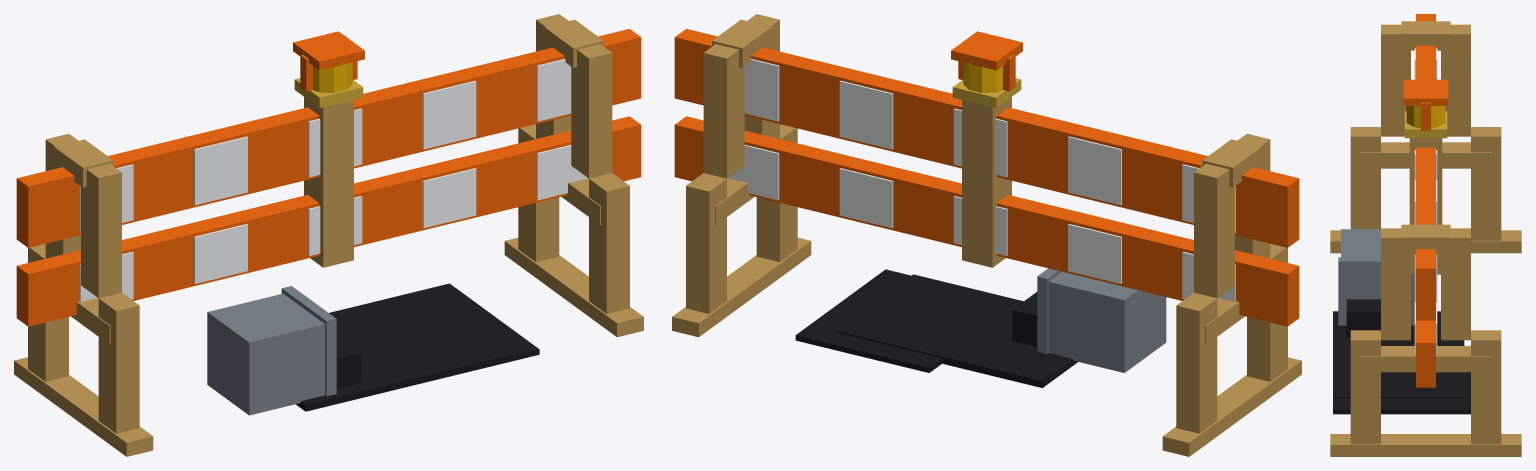
File: obs_roadwork_sawhorse_barricade.glb
3 views of the same model, side by side, from view 1: azimuth 30°, elevation 25°; view 2: azimuth 150°, elevation 25°; view 3: azimuth 270°, elevation 25° (orthographic). The views are drawn at different scales.
Parts seen in each view (by area): view 1: cross_board_top, body, stripe_top_0, tar_puddle_main, tar_bucket_drum, beacon_flash; view 2: cross_board_top, body, stripe_top_0, tar_puddle_main, tar_bucket_drum, beacon_flash; view 3: body, tar_puddle_main, cross_board_top, tar_bucket_drum, beacon_flash, stripe_top_0.
Boxes of the visible parts, bbox=[...] form: cross_board_top: bbox=[16, 29, 641, 326]; body: bbox=[14, 14, 643, 456]; stripe_top_0: bbox=[80, 59, 587, 301]; tar_puddle_main: bbox=[296, 283, 539, 411]; tar_bucket_drum: bbox=[207, 286, 336, 415]; beacon_flash: bbox=[293, 31, 364, 107]; cross_board_top: bbox=[674, 29, 1299, 326]; body: bbox=[672, 14, 1301, 456]; stripe_top_0: bbox=[728, 59, 1235, 301]; tar_puddle_main: bbox=[795, 269, 1077, 387]; tar_bucket_drum: bbox=[1037, 268, 1166, 372]; beacon_flash: bbox=[951, 31, 1022, 107]; body: bbox=[1330, 21, 1521, 456]; tar_puddle_main: bbox=[1333, 299, 1470, 414]; cross_board_top: bbox=[1416, 14, 1435, 387]; tar_bucket_drum: bbox=[1338, 229, 1414, 325]; beacon_flash: bbox=[1403, 79, 1448, 138]; stripe_top_0: bbox=[1414, 48, 1437, 355].
Size of the model in its own units: 2.2 by 1.05 by 0.7.
